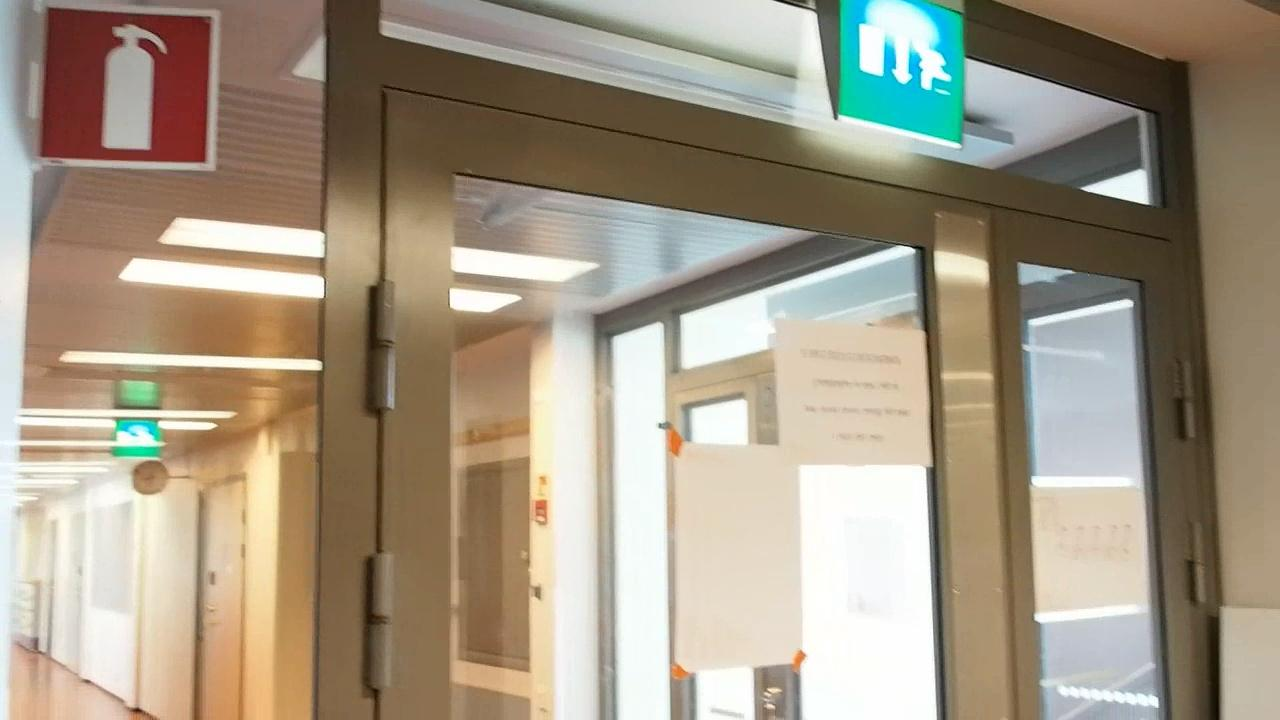exit: (838, 4, 971, 133)
fireextinguisher: (52, 18, 206, 162)
